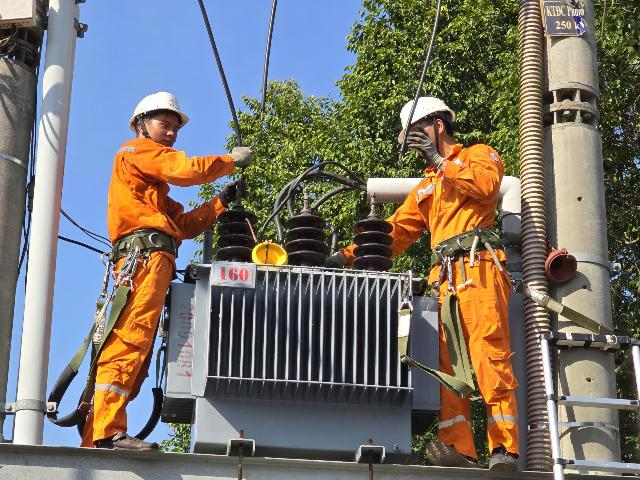gloves: (401, 121, 441, 170), (211, 178, 260, 207), (224, 141, 259, 174)
harness: (99, 222, 185, 265), (428, 230, 519, 267)
helmet: (110, 78, 213, 138), (381, 86, 464, 136)
shoes: (99, 417, 164, 453), (430, 435, 484, 474), (485, 445, 525, 478)
